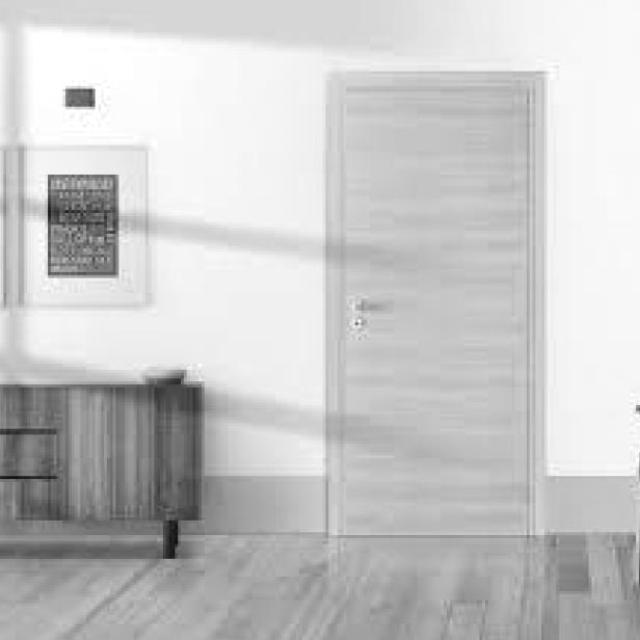door: (324, 69, 543, 537)
